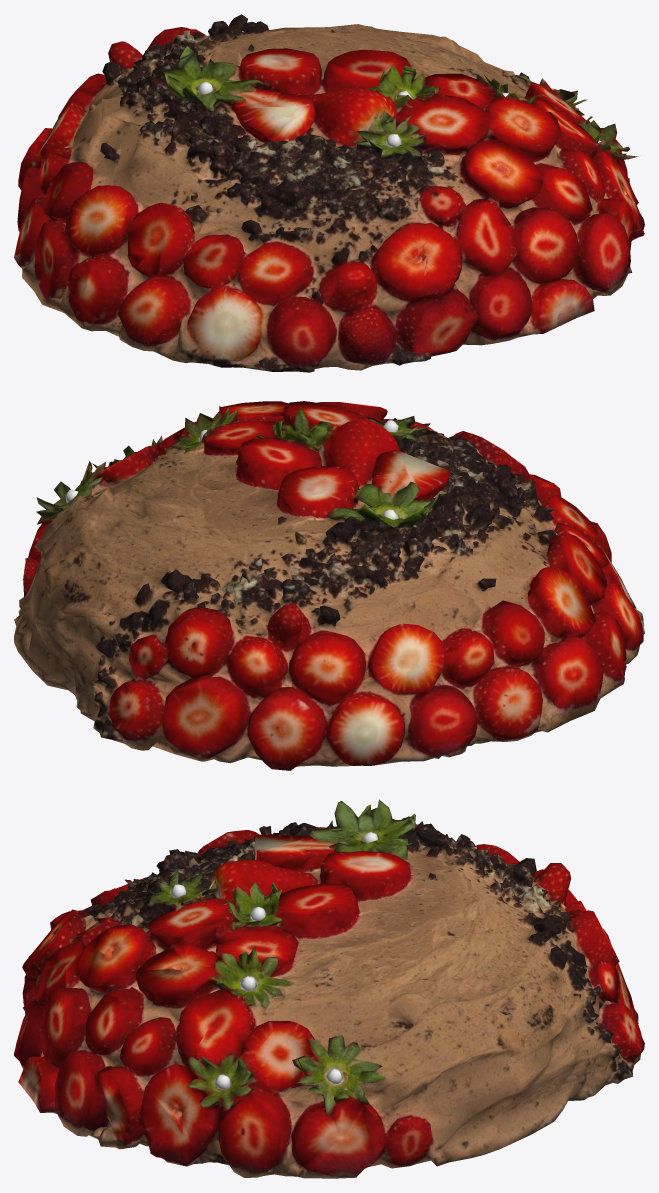
File: bolo-chocolate-morangos-v03.glb
3 views of the same model, one above another, from view 1: azimuth 30°, elevation 25°; view 2: azimuth 150°, elevation 25°; view 3: azimuth 270°, elevation 25° (orthographic). The views are drawn at different scales.
Parts seen in each view (by area): view 1: strawberry_chocolate_cake; view 2: strawberry_chocolate_cake; view 3: strawberry_chocolate_cake.
Boxes of the visible parts, x1=… form: strawberry_chocolate_cake: x1=14, y1=14, x2=644, y2=372; strawberry_chocolate_cake: x1=14, y1=401, x2=644, y2=770; strawberry_chocolate_cake: x1=14, y1=799, x2=644, y2=1178.
Size of the model in its own units: 0.2 by 0.0648 by 0.1967.
1 material, 1 textured.
